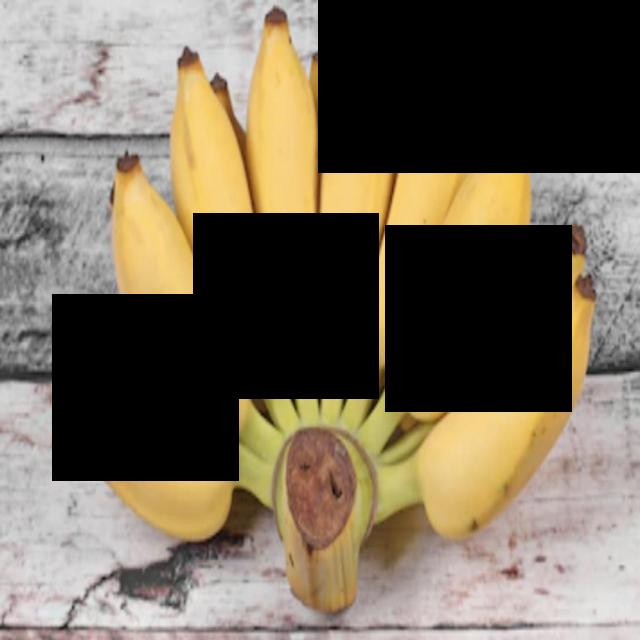banana: (35, 260, 263, 588), (388, 252, 598, 578), (355, 106, 549, 423), (89, 130, 268, 468), (167, 26, 297, 403), (354, 31, 485, 402), (245, 1, 328, 388), (314, 2, 400, 353)
